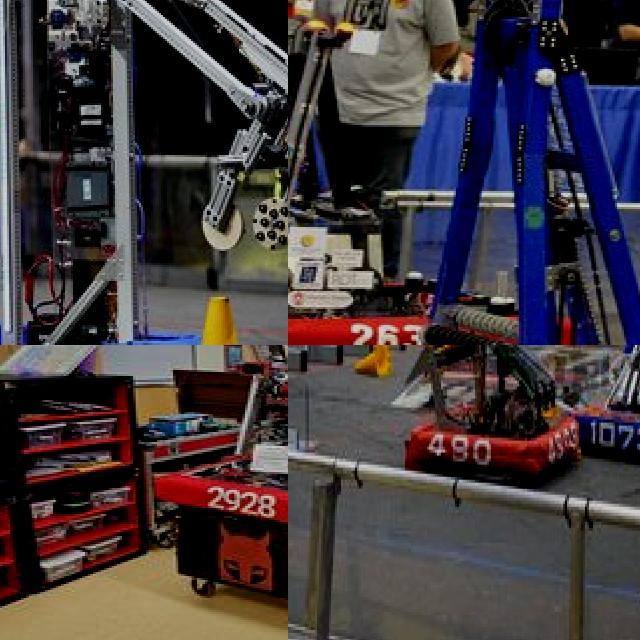FRC-Robots: (288, 0, 640, 345), (0, 0, 274, 345), (288, 2, 455, 345), (388, 345, 590, 493), (150, 345, 288, 530), (583, 345, 640, 494)
